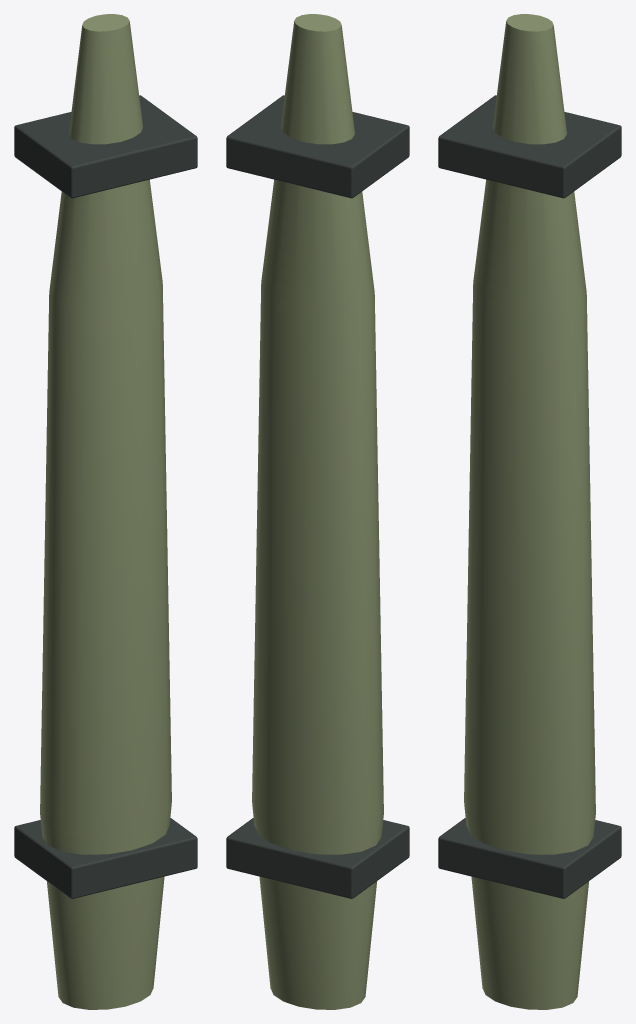
File: backpacks-and-expedition-storage-tent-pole-bag-2e8a777d__21094.glb
The picture shows the model from 3 angles, left to right: view 1: azimuth 30°, elevation 25°; view 2: azimuth 150°, elevation 25°; view 3: azimuth 330°, elevation 25°; orthographic projection.
Parts seen in each view (by area): view 1: tent-pole-bag; view 2: tent-pole-bag; view 3: tent-pole-bag.
Part boxes in pixels (box(x1,y1,x2,y2)): tent-pole-bag: box(14, 14, 197, 1009); tent-pole-bag: box(226, 14, 409, 1009); tent-pole-bag: box(438, 14, 621, 1009).
Bounding box in the file's own units: 0.095 × 0.7 × 0.075.
